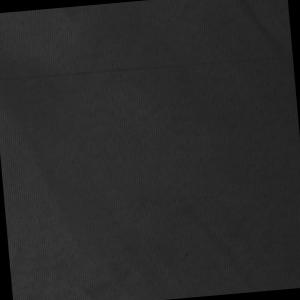Wrinkle: (1, 50, 144, 300), (177, 196, 266, 299), (223, 1, 294, 78)
